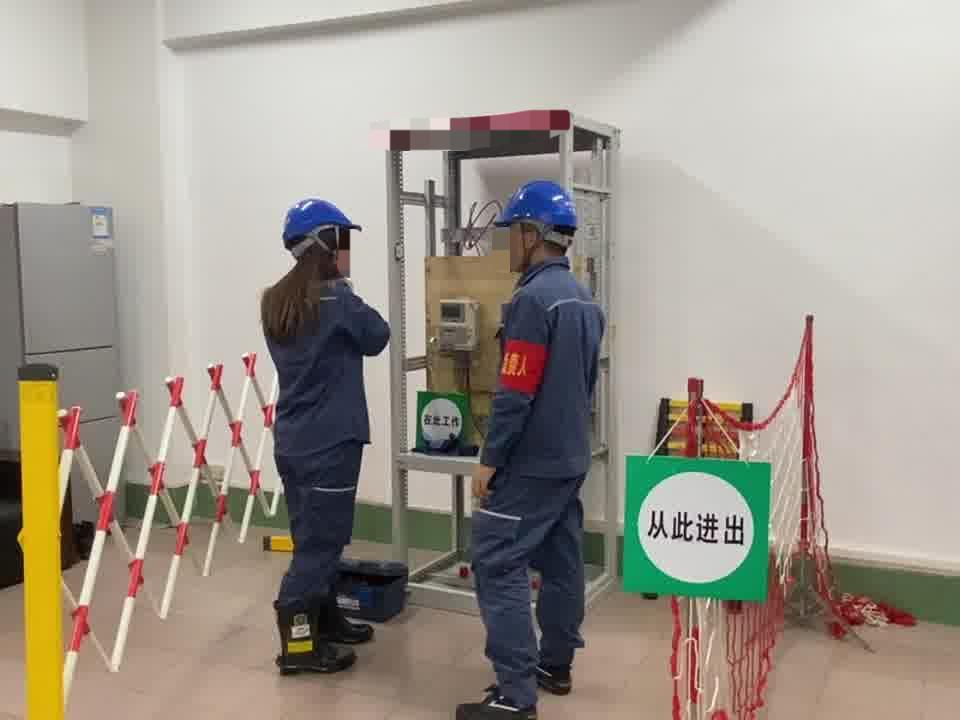halt: (497, 181, 583, 271)
inear: (518, 222, 549, 264)
